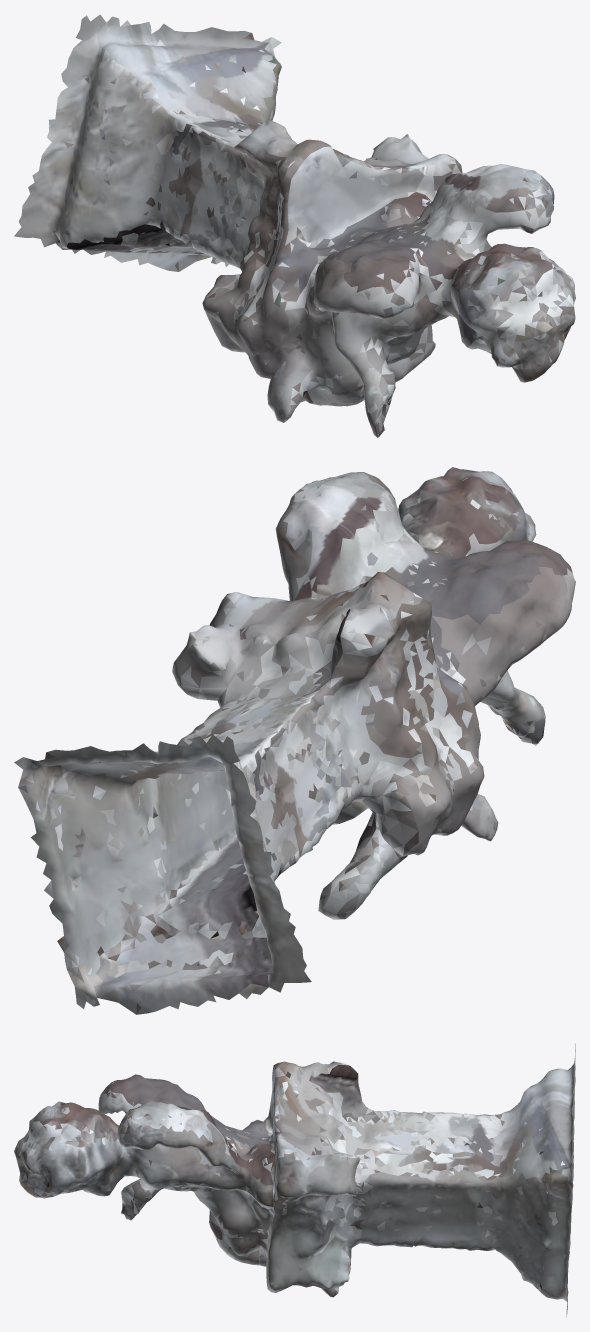
The model's file is testTextured_mesh_1.obj.
The picture shows the model from 3 angles, top to bottom: view 1: azimuth 30°, elevation 25°; view 2: azimuth 150°, elevation 25°; view 3: azimuth 270°, elevation 25°; orthographic projection. The views are drawn at different scales.
Bounding box in the file's own units: 0.271 × 0.2721 × 0.6043.
